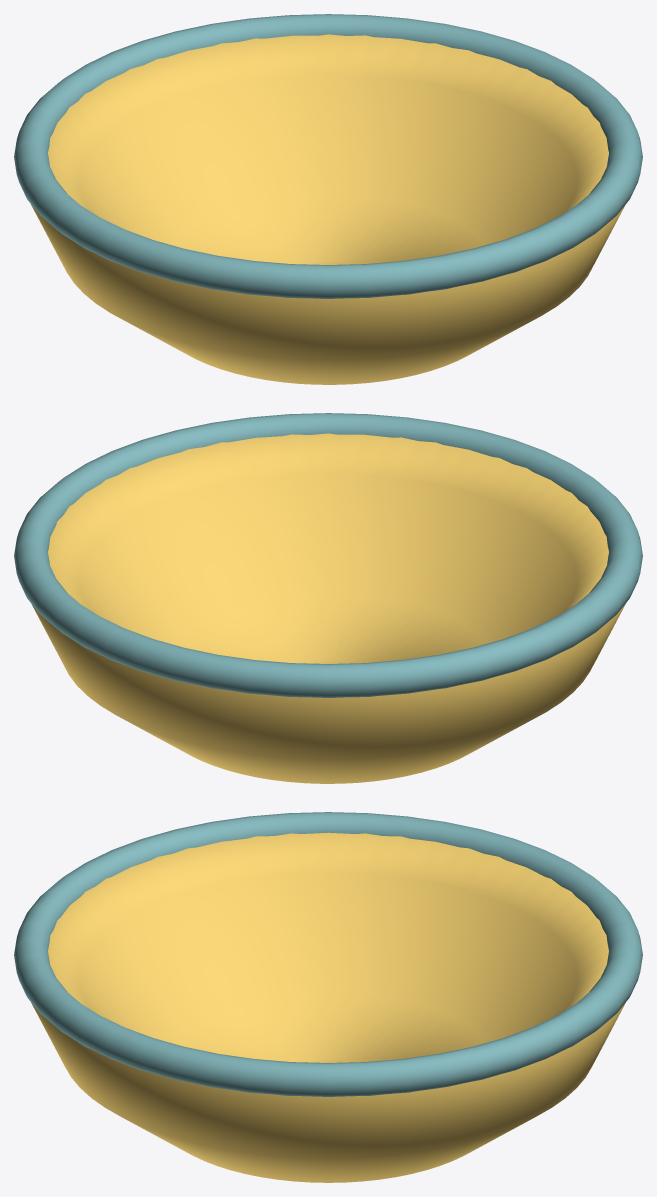
File: SinkBowl.glb
3 views of the same model, one above another, from view 1: azimuth 30°, elevation 25°; view 2: azimuth 150°, elevation 25°; view 3: azimuth 270°, elevation 25° (orthographic).
Visible parts, largest first — view 1: SinkBowl_Body, SinkBowl_Rim; view 2: SinkBowl_Body, SinkBowl_Rim; view 3: SinkBowl_Body, SinkBowl_Rim.
Boxes of the visible parts, box(x1,y1,x2,y2) form: SinkBowl_Body: box(31, 34, 624, 384); SinkBowl_Rim: box(14, 14, 642, 298); SinkBowl_Body: box(32, 433, 625, 783); SinkBowl_Rim: box(14, 413, 642, 697); SinkBowl_Body: box(31, 832, 625, 1182); SinkBowl_Rim: box(14, 812, 642, 1096).
Bounding box in the file's own units: 2.22 × 0.702 × 2.22.
